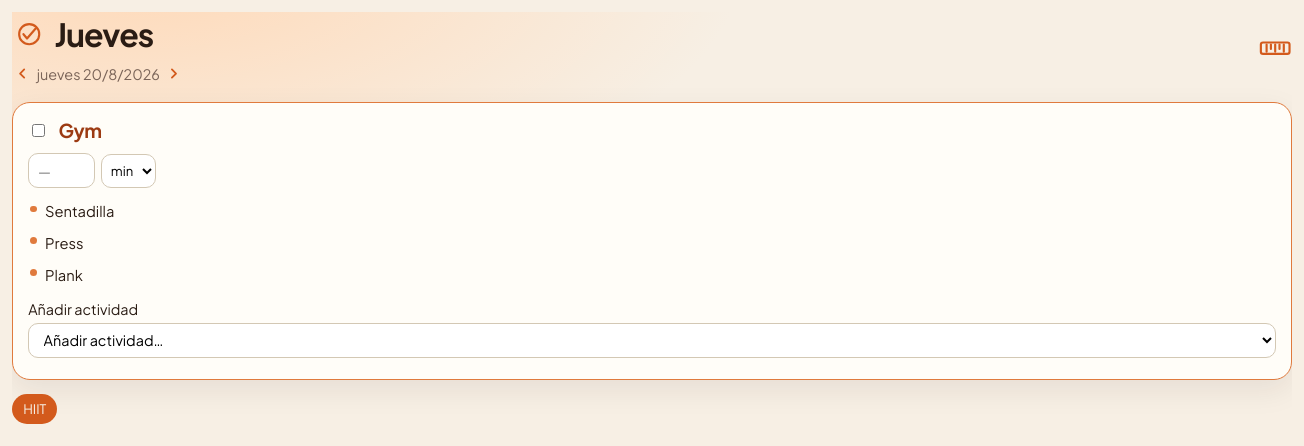
Hoy › permite marcar una sesión de un día pasado
Step 1. Click the checkbox named "Hecha" → coordinates (39, 130), box [32,124,45,137]
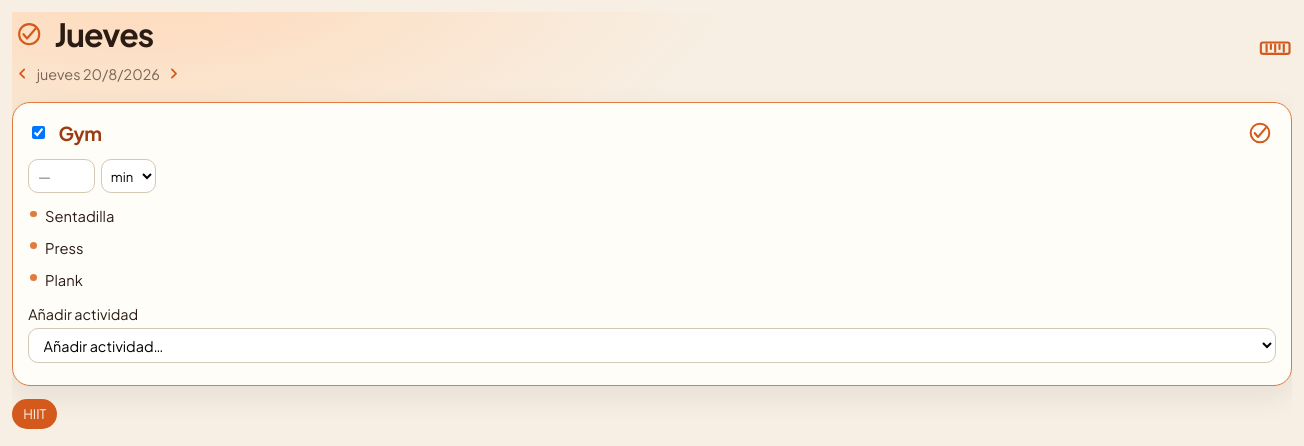
Check: the checkbox named "Hecha" is checked, box [32,126,45,140]
Check: the icon with class "icono-hecho" is shown, box [1244,117,1276,149]
